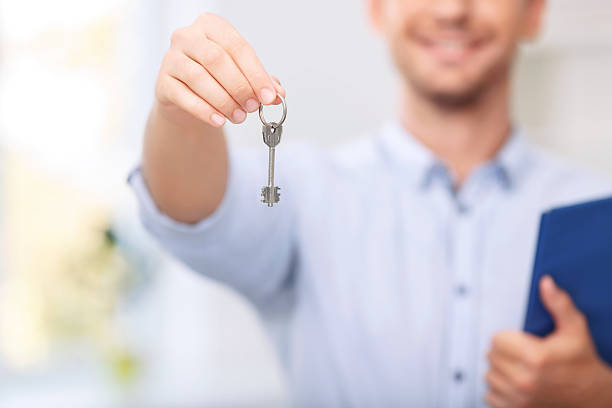key: (260, 123, 283, 209)
